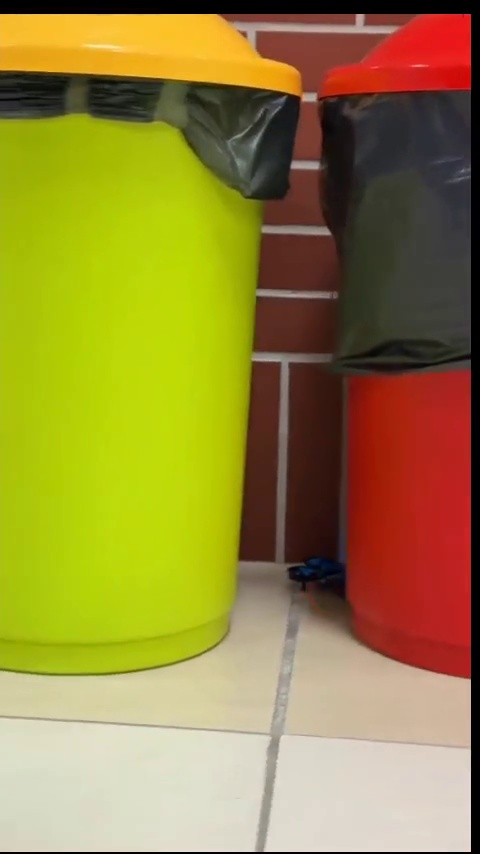drone: (284, 555, 341, 586)
